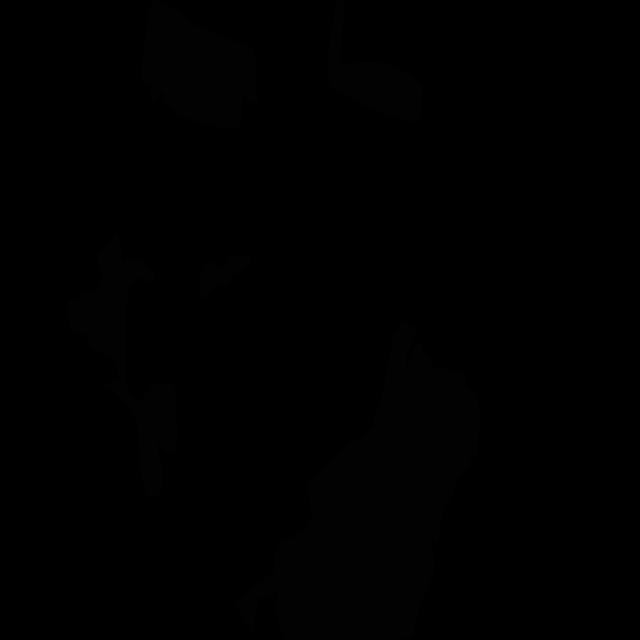cardboard: (235, 435, 446, 640), (356, 320, 481, 509), (140, 0, 258, 128), (67, 231, 156, 382), (327, 0, 424, 124), (102, 380, 178, 499), (67, 304, 119, 380), (199, 255, 252, 301)
